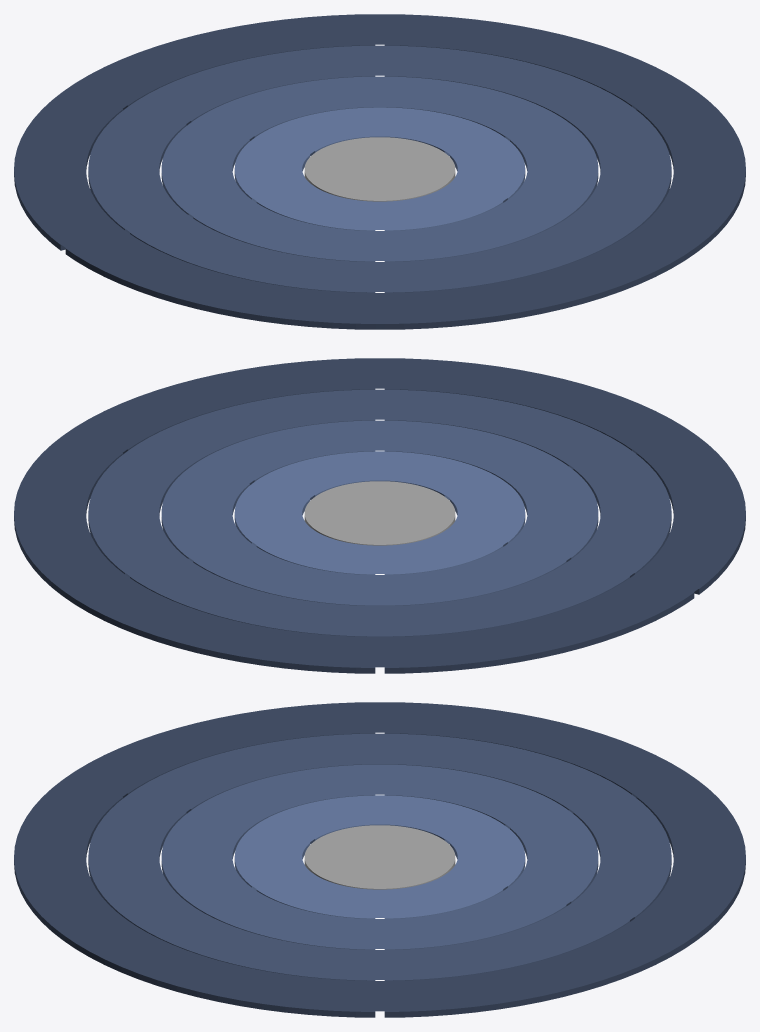
Rendered from Lock_Picking_Puzzle_000.fbx.
The picture shows the model from 3 angles, top to bottom: view 1: azimuth 30°, elevation 25°; view 2: azimuth 150°, elevation 25°; view 3: azimuth 270°, elevation 25°; orthographic projection.
Parts seen in each view (by area): view 1: Ring_04_Touch_Control, Ring_03_Touch_Control, Ring_02_Touch_Control, Ring_01_Touch_Control, Center_Block, Ring_04, Ring_03, Ring_02, Ring_01; view 2: Ring_04_Touch_Control, Ring_03_Touch_Control, Ring_02_Touch_Control, Ring_01_Touch_Control, Center_Block, Ring_04, Ring_03, Ring_02, Ring_01; view 3: Ring_04_Touch_Control, Ring_03_Touch_Control, Ring_02_Touch_Control, Ring_01_Touch_Control, Center_Block, Ring_04, Ring_03, Ring_02, Ring_01.
Part boxes in pixels (x1,y1,x2,y2): Ring_04_Touch_Control: (14,14,745,323); Ring_03_Touch_Control: (88,45,671,291); Ring_02_Touch_Control: (161,76,598,260); Ring_01_Touch_Control: (234,107,525,229); Center_Block: (304,137,455,201); Ring_04: (14,44,745,329); Ring_03: (88,75,671,292); Ring_02: (161,106,598,261); Ring_01: (234,136,525,230); Ring_04_Touch_Control: (14,358,745,667); Ring_03_Touch_Control: (88,389,671,635); Ring_02_Touch_Control: (161,420,598,604); Ring_01_Touch_Control: (234,451,525,573); Center_Block: (304,481,455,545); Ring_04: (14,388,745,673); Ring_03: (88,419,671,636); Ring_02: (161,450,598,605); Ring_01: (234,480,525,574); Ring_04_Touch_Control: (14,702,745,1011); Ring_03_Touch_Control: (88,733,671,979); Ring_02_Touch_Control: (161,764,598,948); Ring_01_Touch_Control: (234,795,525,917); Center_Block: (304,825,455,889); Ring_04: (14,732,745,1017); Ring_03: (88,763,671,980); Ring_02: (161,794,598,949); Ring_01: (234,824,525,918).
Size of what is drawn, in the model's own units: 912 by 9.28 by 913.
